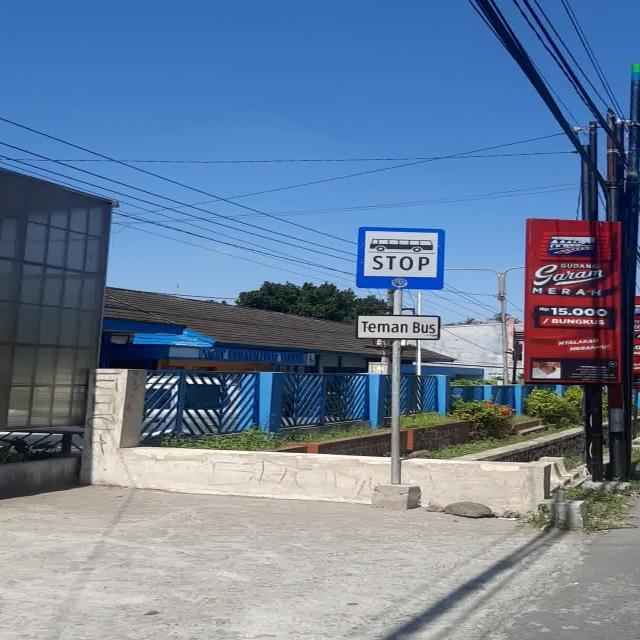Pemberhentian Bus: (356, 226, 446, 290)
